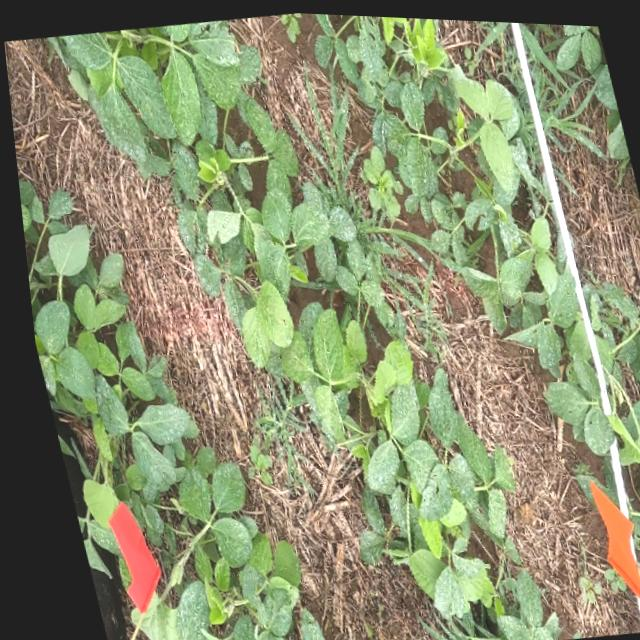caruru_weed: (567, 562, 590, 598), (280, 10, 301, 39), (590, 565, 614, 586)
grassy_weed: (291, 72, 433, 336), (522, 18, 602, 151), (238, 375, 301, 489), (466, 17, 523, 93), (398, 303, 446, 362)
soy_plant: (54, 18, 545, 640), (315, 11, 640, 491), (15, 181, 311, 640), (524, 20, 620, 131)
